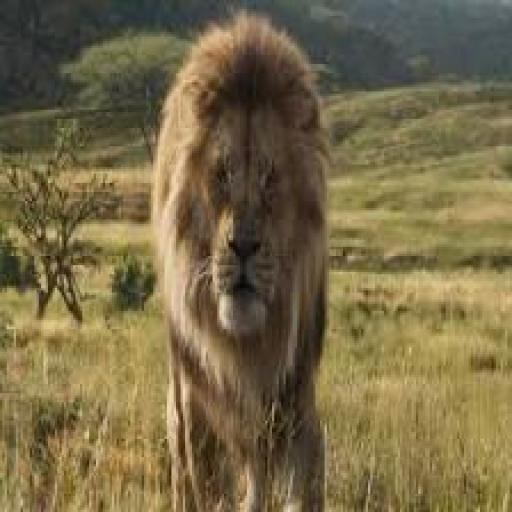lion: (149, 9, 330, 509)
